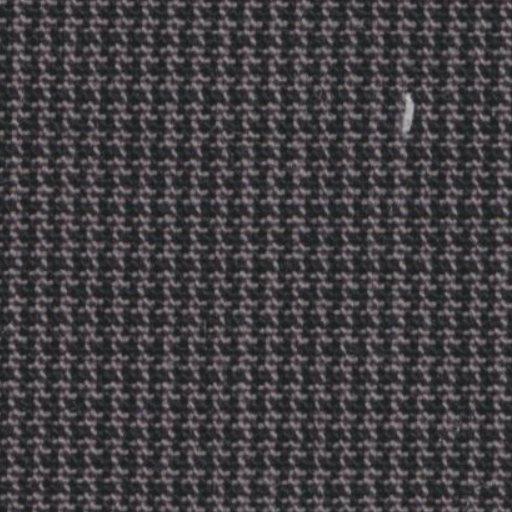DuanSha: (381, 76, 440, 143)
